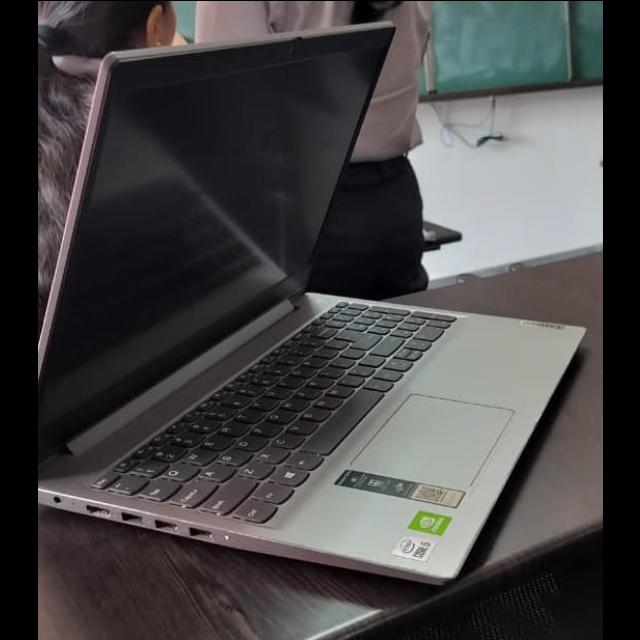laptop: (50, 36, 602, 598)
